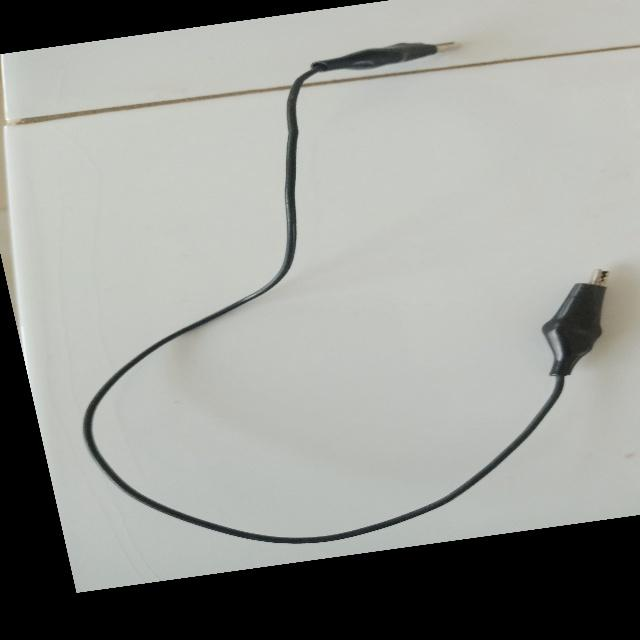BNC Cables Both Clips: (0, 4, 640, 581)
